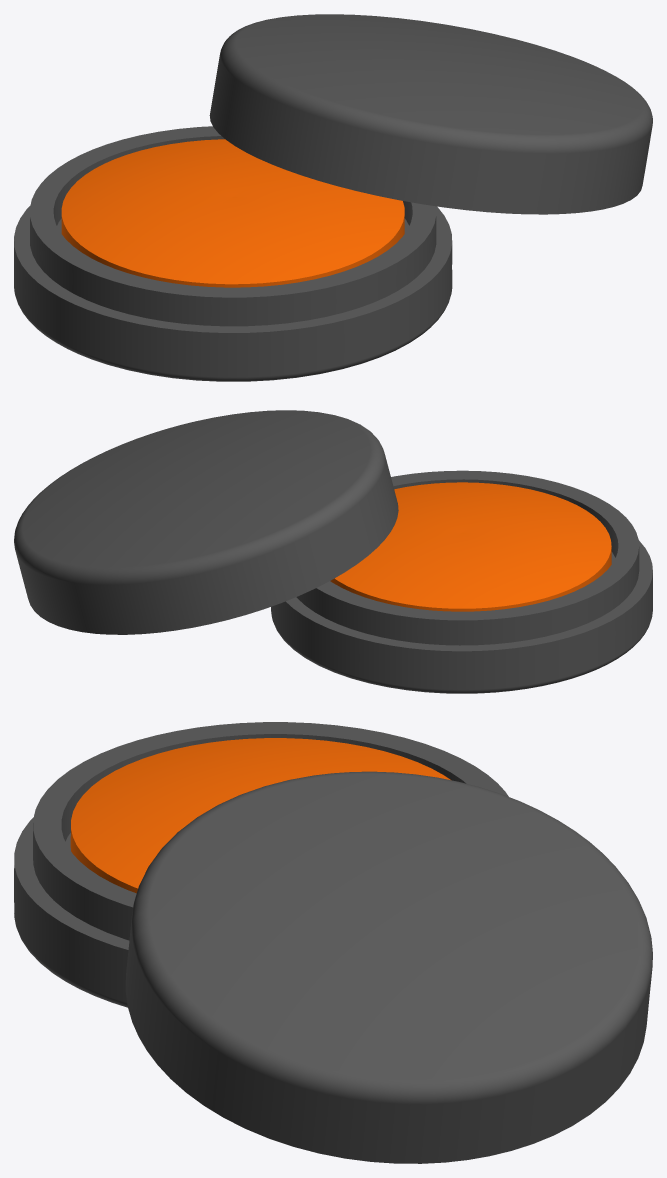
File: 246_朱肉開.glb
3 views of the same model, one above another, from view 1: azimuth 30°, elevation 25°; view 2: azimuth 150°, elevation 25°; view 3: azimuth 270°, elevation 25° (orthographic). The views are drawn at different scales.
Parts seen in each view (by area): view 1: Body1.001, 蓋.001; view 2: 蓋.001, Body1.001; view 3: 蓋.001, Body1.001.
Boxes of the visible parts, x1=… form: Body1.001: x1=14, y1=126, x2=452, y2=381; 蓋.001: x1=209, y1=14, x2=652, y2=214; 蓋.001: x1=14, y1=410, x2=398, y2=634; Body1.001: x1=271, y1=470, x2=652, y2=693; 蓋.001: x1=125, y1=771, x2=652, y2=1163; Body1.001: x1=14, y1=722, x2=508, y2=1007.
Size of the model in its own units: 0.0913 by 0.0228 by 0.0675.
